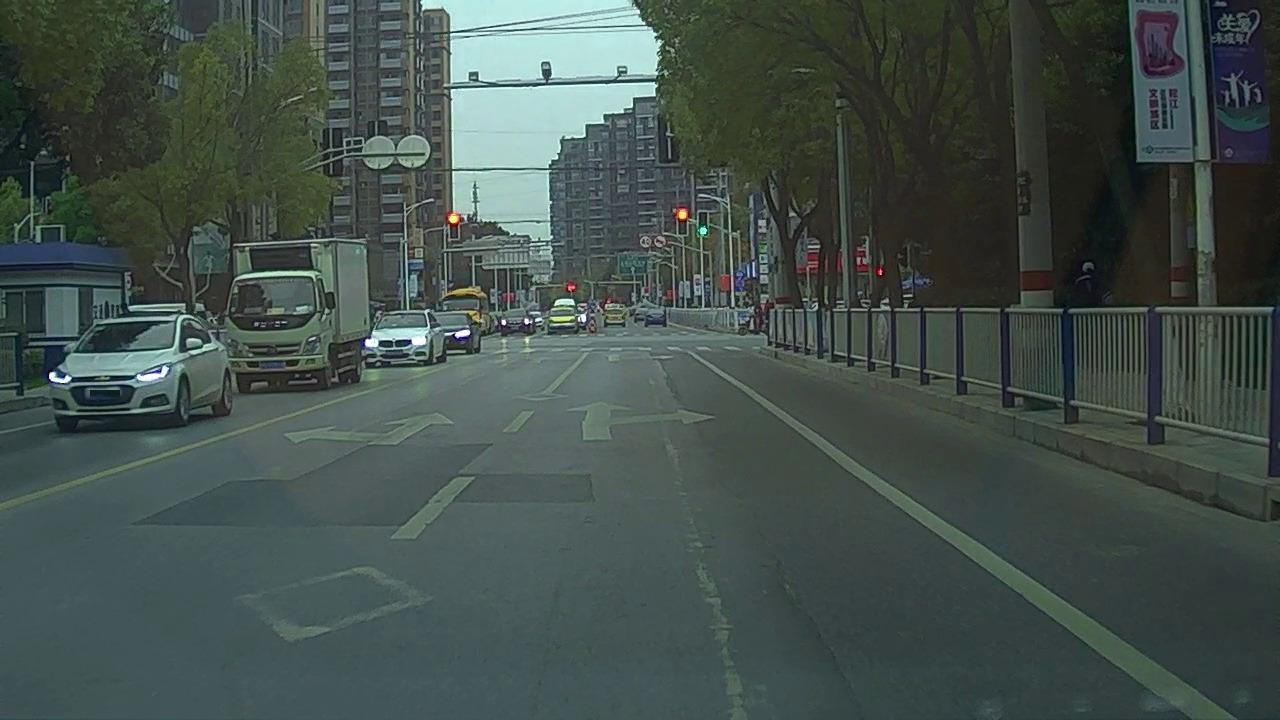traffic_light: (697, 210, 708, 236), (449, 213, 458, 239), (679, 209, 688, 232)
